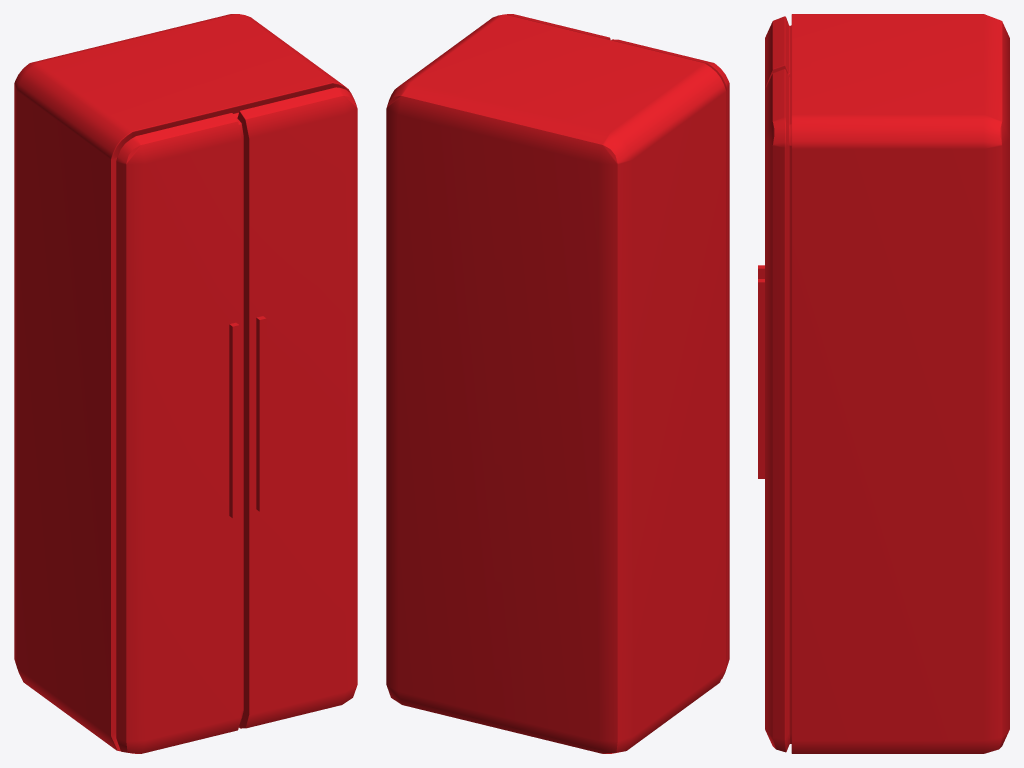
Rendered from Fridge.gltf.
3 renders of one model, left to right at view 1: azimuth 30°, elevation 25°; view 2: azimuth 150°, elevation 25°; view 3: azimuth 270°, elevation 25°, orthographic. The views are drawn at different scales.
Parts seen in each view (by area): view 1: Fridge; view 2: Fridge; view 3: Fridge.
Boxes of the visible parts, x1,y1,x2,y2 form: Fridge: [14, 14, 357, 753]; Fridge: [386, 14, 729, 753]; Fridge: [758, 14, 1009, 753].
Size of the model in its own units: 4.03 by 9.81 by 3.5.
